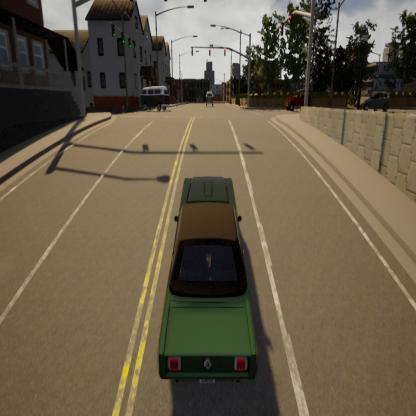Cars: (157, 170, 259, 392), (140, 82, 168, 112), (358, 91, 390, 112), (284, 91, 303, 114), (204, 88, 213, 109)
